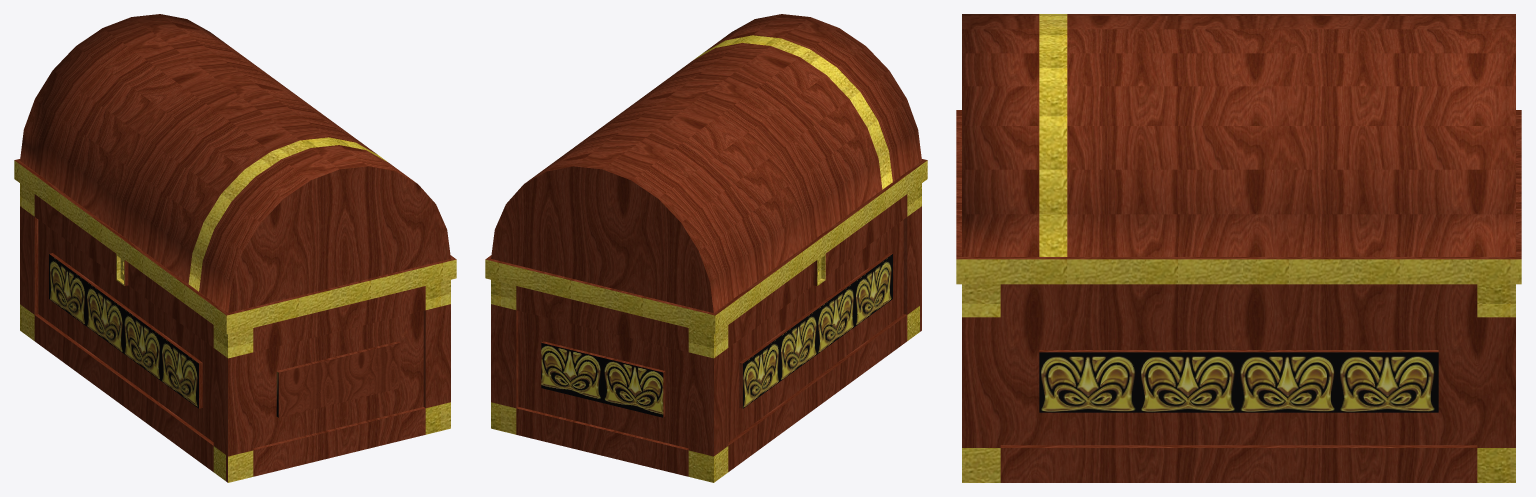
The model's file is trunk.obj.
3 renders of one model, left to right at view 1: azimuth 30°, elevation 25°; view 2: azimuth 150°, elevation 25°; view 3: azimuth 270°, elevation 25°, orthographic. The views are drawn at different scales.
Visible parts, largest first — view 1: mesh1.001_mesh1-geometry, mesh2.001_mesh2-geometry; view 2: mesh1.001_mesh1-geometry; view 3: mesh1.001_mesh1-geometry.
Part boxes in pixels (bbox=[...]): mesh1.001_mesh1-geometry: bbox=[14, 14, 456, 482]; mesh2.001_mesh2-geometry: bbox=[276, 341, 400, 417]; mesh1.001_mesh1-geometry: bbox=[485, 14, 927, 482]; mesh1.001_mesh1-geometry: bbox=[956, 14, 1521, 482].
Bounding box in the file's own units: 63.8 × 75.9 × 102.
Materials: 5 (5 with a texture image).
